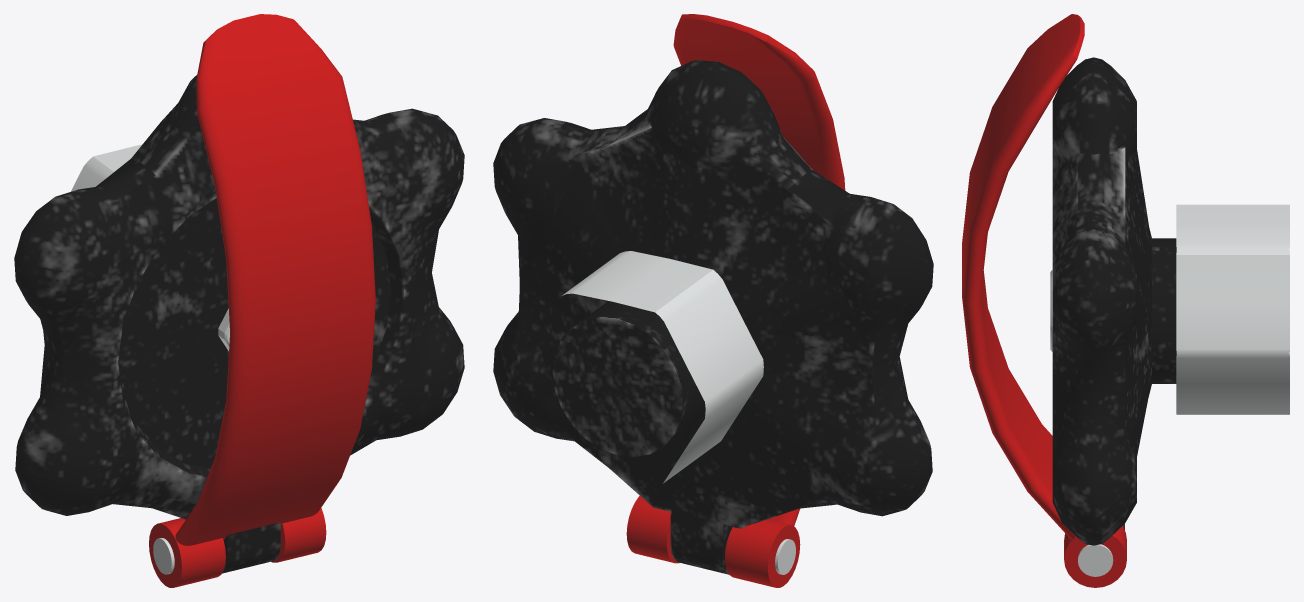
File: MiG-15bis-Gearvalve.gltf
3 views of the same model, side by side, from view 1: azimuth 30°, elevation 25°; view 2: azimuth 150°, elevation 25°; view 3: azimuth 270°, elevation 25° (orthographic). The views are drawn at different scales.
Visible parts, largest first — view 1: GV_Valve, GV_Handle, GV_Base; view 2: GV_Valve, GV_Handle, GV_Base; view 3: GV_Valve, GV_Base, GV_Handle.
Part boxes in pixels (x1,y1,x2,y2): GV_Valve: (14,75,464,573); GV_Handle: (149,14,375,587); GV_Base: (71,144,142,191); GV_Valve: (493,60,933,574); GV_Handle: (626,14,845,587); GV_Base: (562,251,763,483); GV_Valve: (1050,57,1176,545); GV_Base: (1176,204,1289,414); GV_Handle: (962,14,1126,587).
Size of the model in its own units: 0.0573 by 0.0685 by 0.0385.
1 material, 1 textured.
